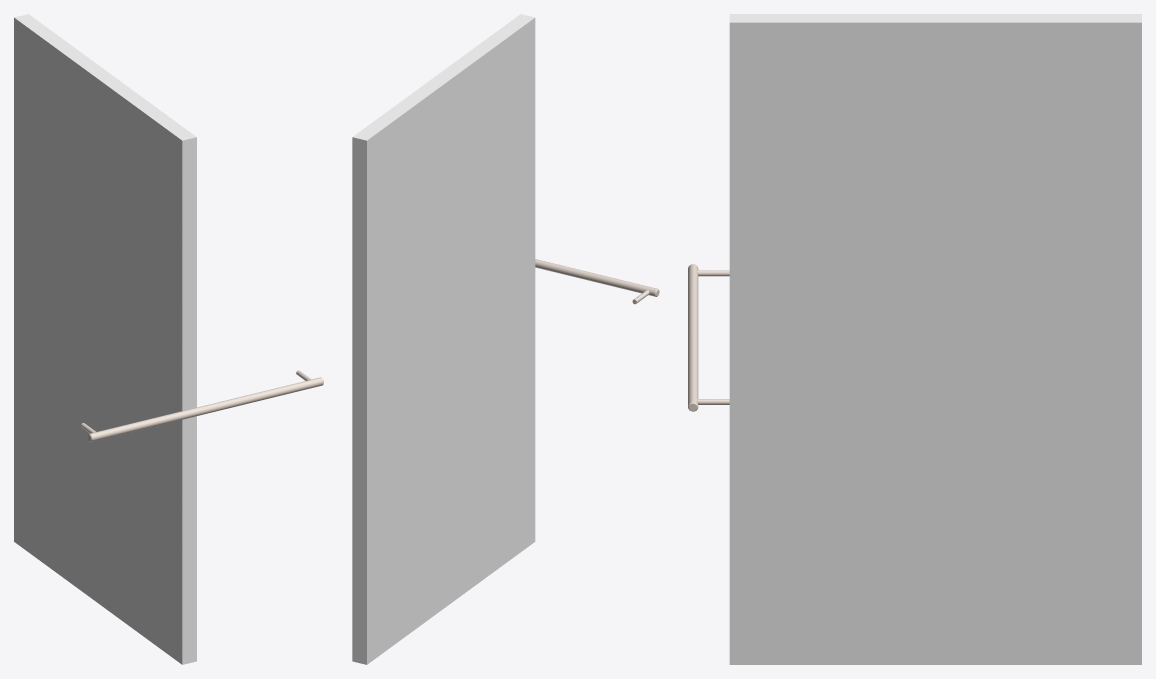
The model's file is Cabinet_9abb0085.obj.
3 views of the same model, side by side, from view 1: azimuth 30°, elevation 25°; view 2: azimuth 150°, elevation 25°; view 3: azimuth 270°, elevation 25° (orthographic). The views are drawn at different scales.
Visible parts, largest first — view 1: FP424:Door3_babc5b91, handle_1_305mm_01_de46d43a; view 2: FP424:Door3_babc5b91, handle_1_305mm_01_de46d43a; view 3: FP424:Door3_babc5b91, handle_1_305mm_01_de46d43a.
Boxes of the visible parts, x1,y1,x2,y2 form: FP424:Door3_babc5b91: (14, 14, 196, 664); handle_1_305mm_01_de46d43a: (81, 370, 323, 441); FP424:Door3_babc5b91: (352, 14, 535, 664); handle_1_305mm_01_de46d43a: (535, 259, 659, 304); FP424:Door3_babc5b91: (729, 14, 1141, 664); handle_1_305mm_01_de46d43a: (688, 264, 729, 411).
Size of the model in its own units: 0.305 by 0.6566 by 0.4206.
